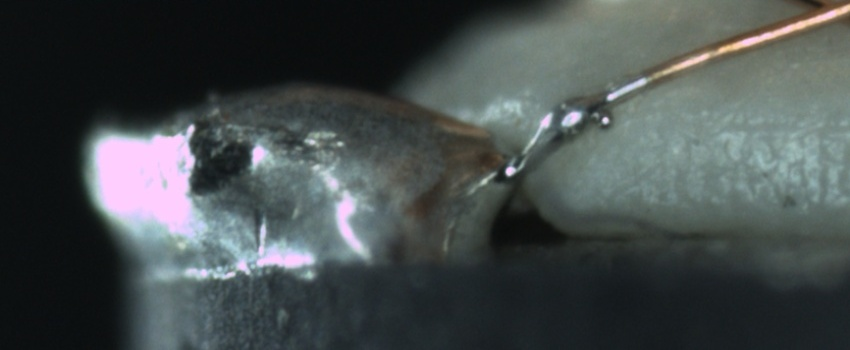CL: (772, 1, 849, 32)
DL: (716, 97, 850, 152)
TB: (512, 91, 617, 179)
TS: (512, 71, 650, 179)
TTCW: (493, 55, 697, 185)
